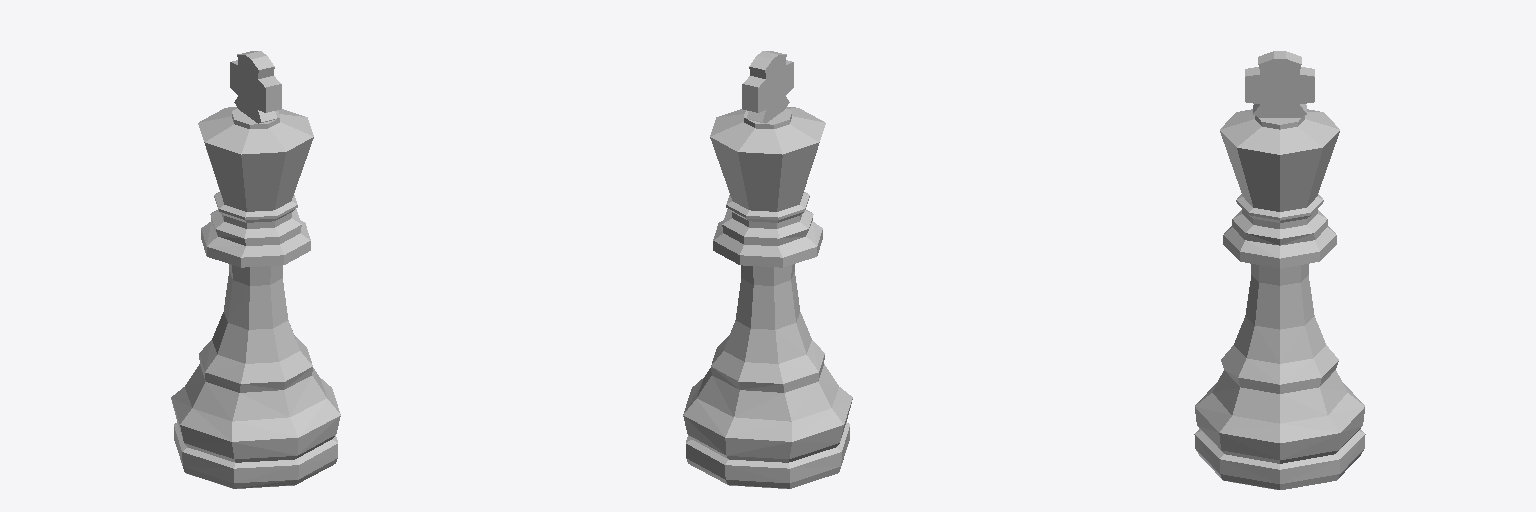
The model's file is king.obj.
3 renders of one model, left to right at view 1: azimuth 30°, elevation 25°; view 2: azimuth 150°, elevation 25°; view 3: azimuth 270°, elevation 25°, orthographic.
Parts seen in each view (by area): view 1: King; view 2: King; view 3: King.
Boxes of the visible parts, <box> form: King: <box>171,51,340,488</box>; King: <box>683,51,852,488</box>; King: <box>1194,51,1365,489</box>.
Size of the model in its own units: 1.77 by 4.47 by 1.73.